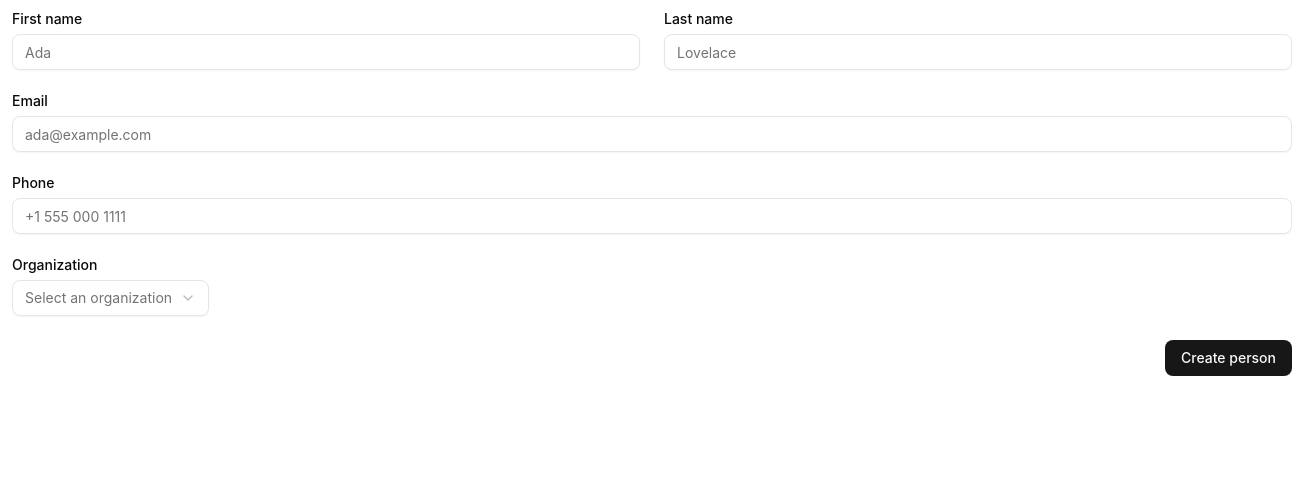
Test: PersonForm › blocks submit and shows validation errors when empty
Click the button "Create person".
click(1228, 358)  # box 1165,340 -> 1292,376
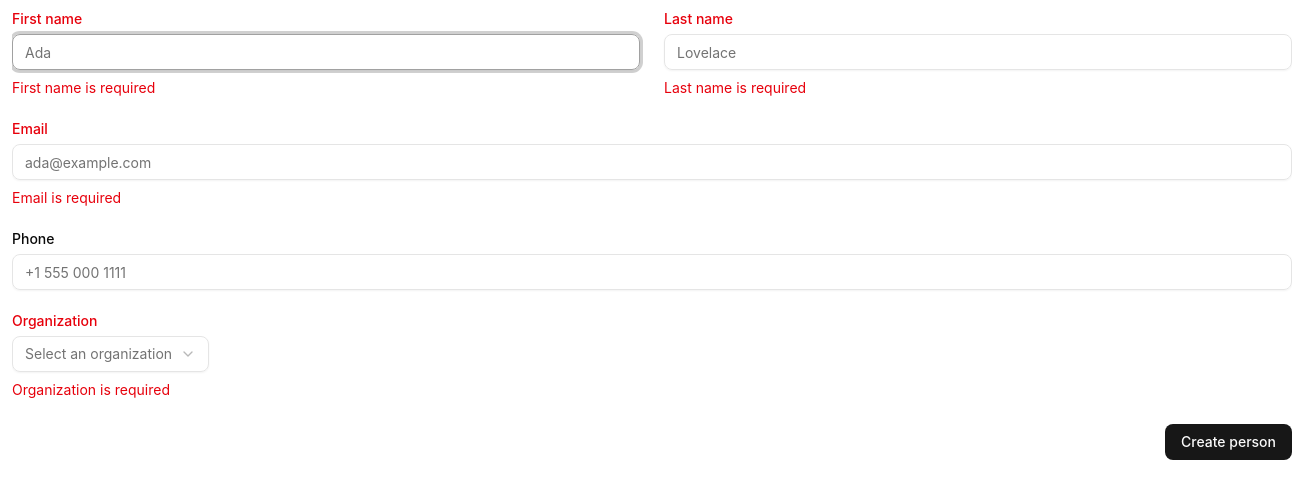
Expected: the text "First name is required" is shown, 12,79 -> 155,96
Expected: the text "Organization is required" is shown, 12,381 -> 170,398
